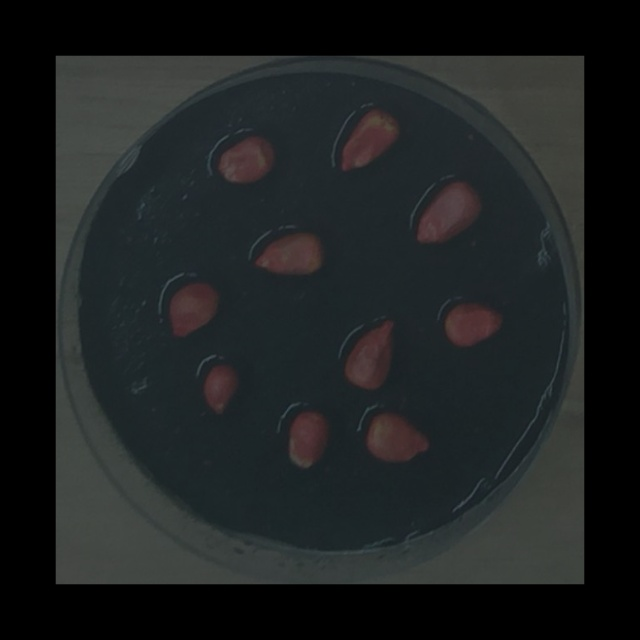Zea mays: (409, 173, 487, 250), (334, 103, 405, 178), (338, 313, 401, 396), (248, 224, 331, 282), (359, 405, 436, 467), (163, 275, 226, 343), (214, 130, 282, 190), (439, 295, 508, 353), (282, 401, 335, 476), (199, 357, 247, 419)
